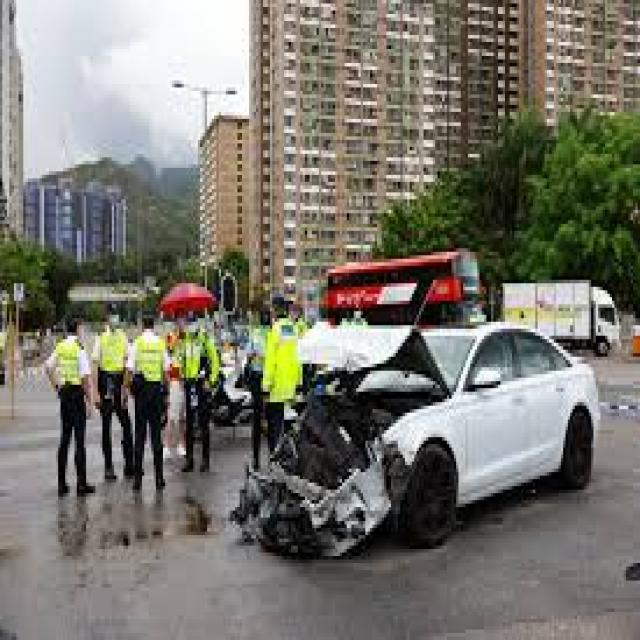accident: (250, 339, 615, 565)
